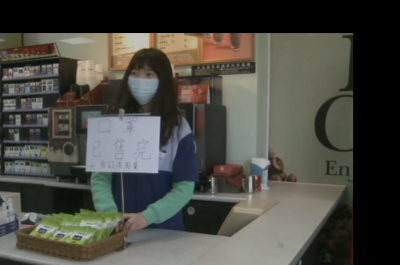with_mask: (126, 66, 159, 104)
